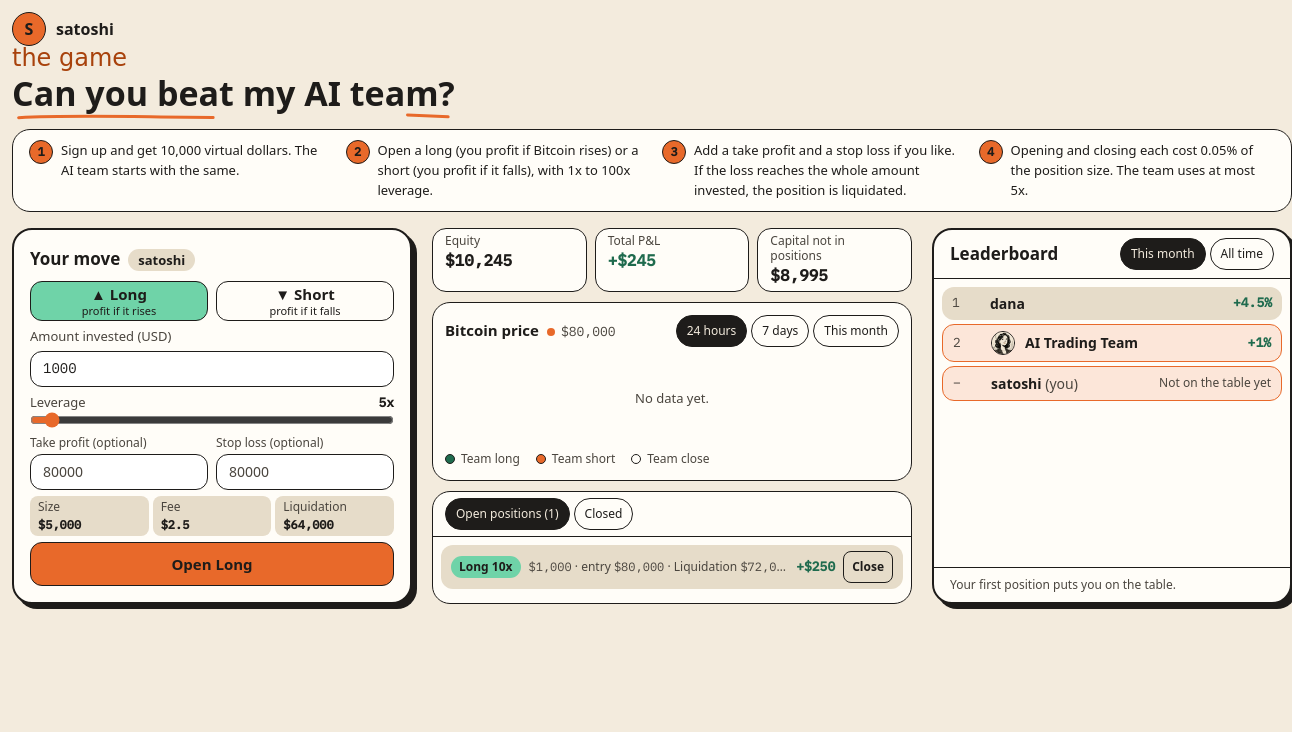
a refused order explains why
Click the button "Open Long".
click(212, 564)  # box top-left (30, 542), bottom-right (394, 586)
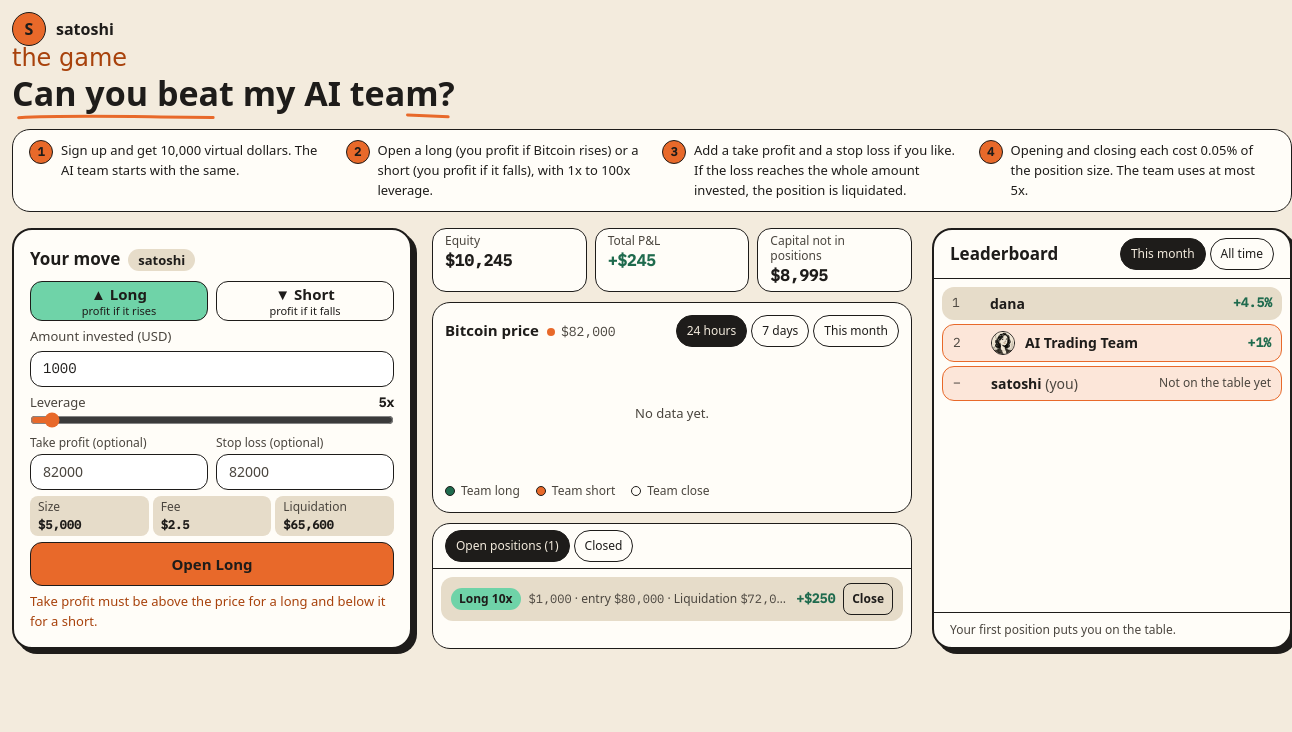
Check: the message reads "Take profit must be above the price for a long and below it for a short.", box top-left (30, 592), bottom-right (386, 630)
